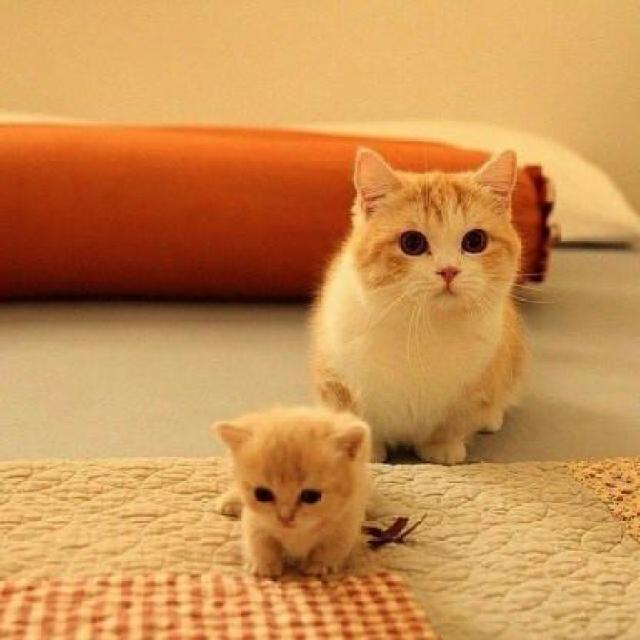cat: (284, 141, 539, 444), (212, 400, 403, 586)
